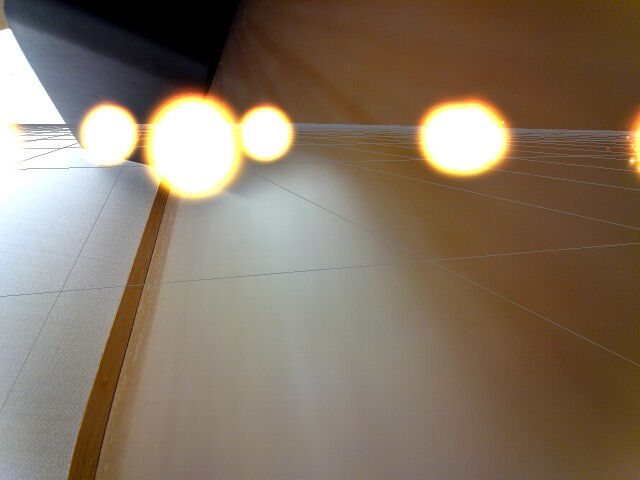firebig: (141, 84, 238, 203)
